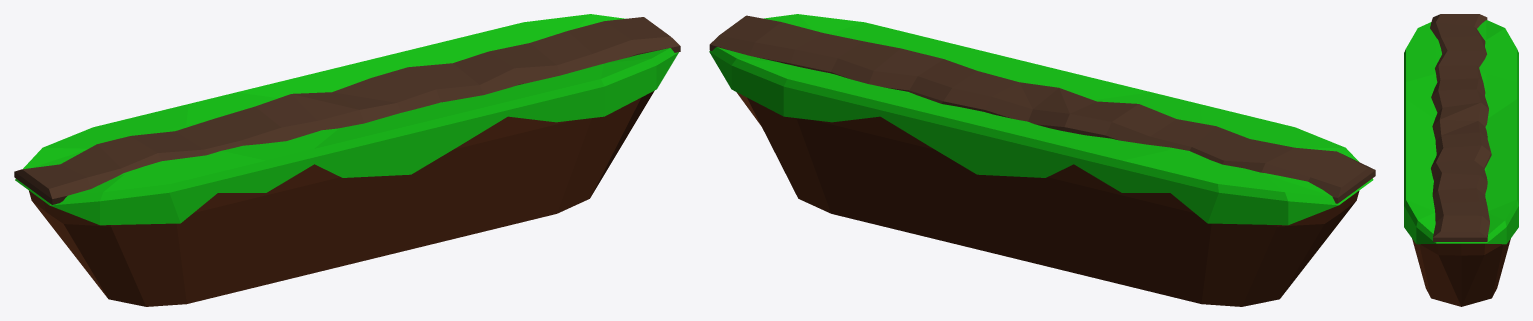
File: block_base.fbx
3 renders of one model, left to right at view 1: azimuth 30°, elevation 25°; view 2: azimuth 150°, elevation 25°; view 3: azimuth 270°, elevation 25°, orthographic. The views are drawn at different scales.
Visible parts, largest first — view 1: block_base; view 2: block_base; view 3: block_base.
Part boxes in pixels (left/top/right/bottom): block_base: left=14, top=14, right=680, bottom=306; block_base: left=709, top=14, right=1375, bottom=306; block_base: left=1404, top=14, right=1518, bottom=306.
Bounding box in the file's own units: 1661 × 407 × 365.
